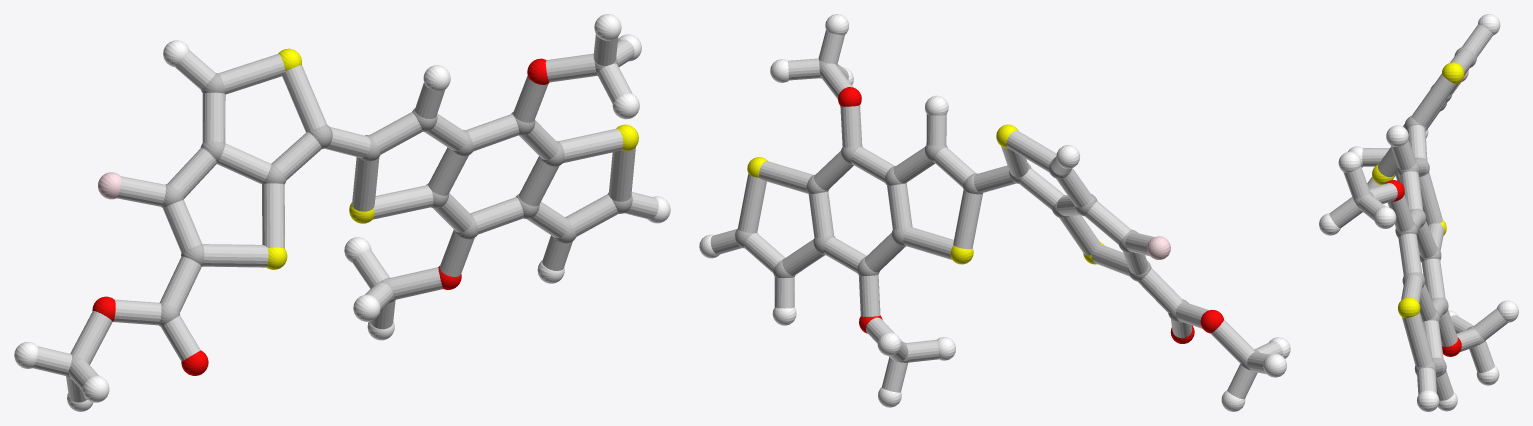
Rendered from Dimethoxy_Benzodithiophene_Phi_30_Theta_40_Methylcarbonyl_3_Fluoro_Thienothiophene.glb.
3 views of the same model, side by side, from view 1: azimuth 30°, elevation 25°; view 2: azimuth 150°, elevation 25°; view 3: azimuth 270°, elevation 25° (orthographic). The views are drawn at different scales.
Visible parts, largest first — view 1: grp15205, grp8689, grp1, grp13395, grp7241; view 2: grp15205, grp8689, grp1, grp13395, grp7241; view 3: grp15205, grp8689, grp1, grp7241, grp13395.
Boxes of the visible parts, box(x1,y1,x2,y2) form: grp15205: box(33, 34, 658, 402); grp8689: box(14, 14, 670, 411); grp1: box(66, 58, 632, 379); grp13395: box(92, 58, 549, 375); grp7241: box(266, 48, 638, 269); grp15205: box(710, 30, 1282, 399); grp8689: box(699, 14, 1290, 411); grp1: box(735, 60, 1259, 370); grp13395: box(838, 87, 1223, 343); grp7241: box(747, 124, 1104, 264); grp15205: box(1329, 24, 1507, 400); grp8689: box(1319, 14, 1518, 411); grp1: box(1353, 47, 1484, 377); grp7241: box(1372, 62, 1464, 317); grp13395: box(1363, 180, 1461, 356).
Size of the model in its own units: 16.75 by 8.49 by 5.31.
